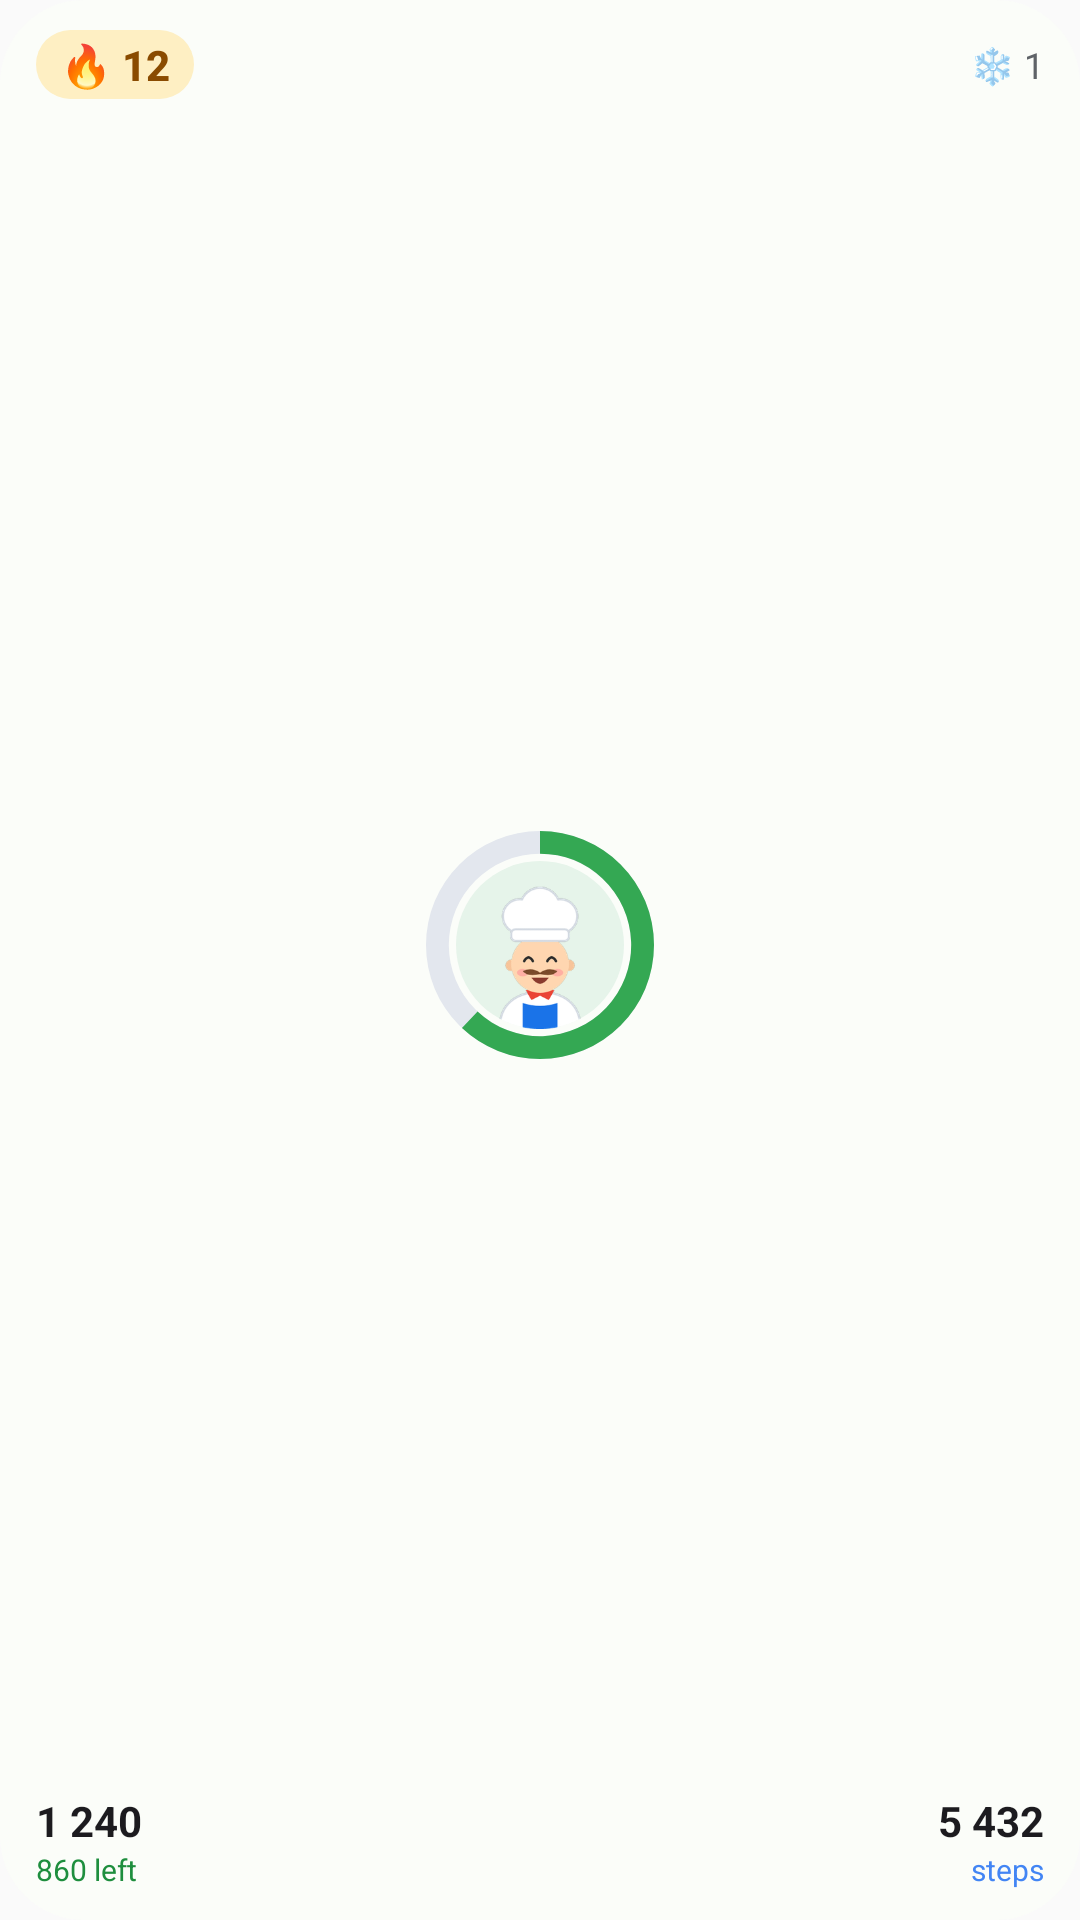

Locate icon controls on the screen. Image size 1080px x 1920px, boxes as (x1,y1,x2,y2).
The Lifoody chef: (456,861,624,1029)
